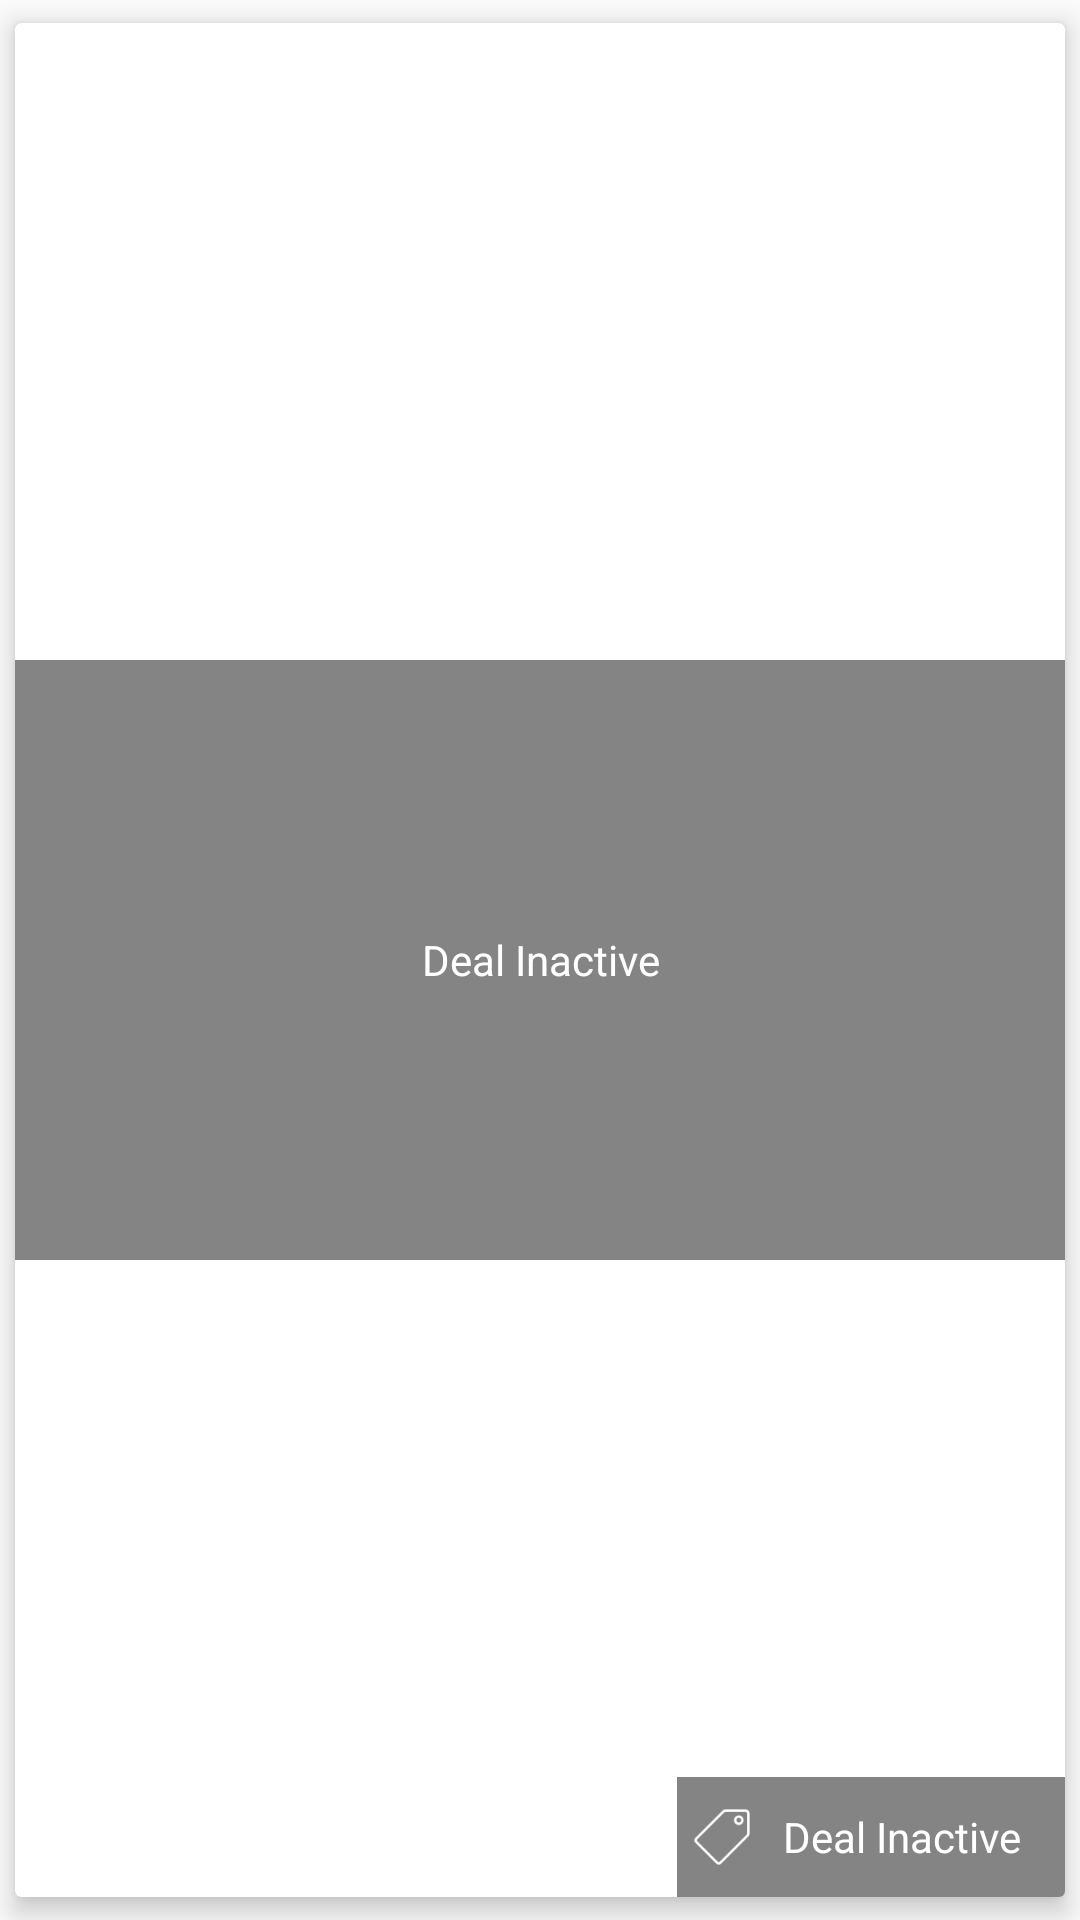

Named icons in this screenshot (1080*1920) and their bounding boxes, [x1,y1,x2,y2]:
tag @string/com_facebook_image_download_unknown_error: [694,1809,750,1865]
